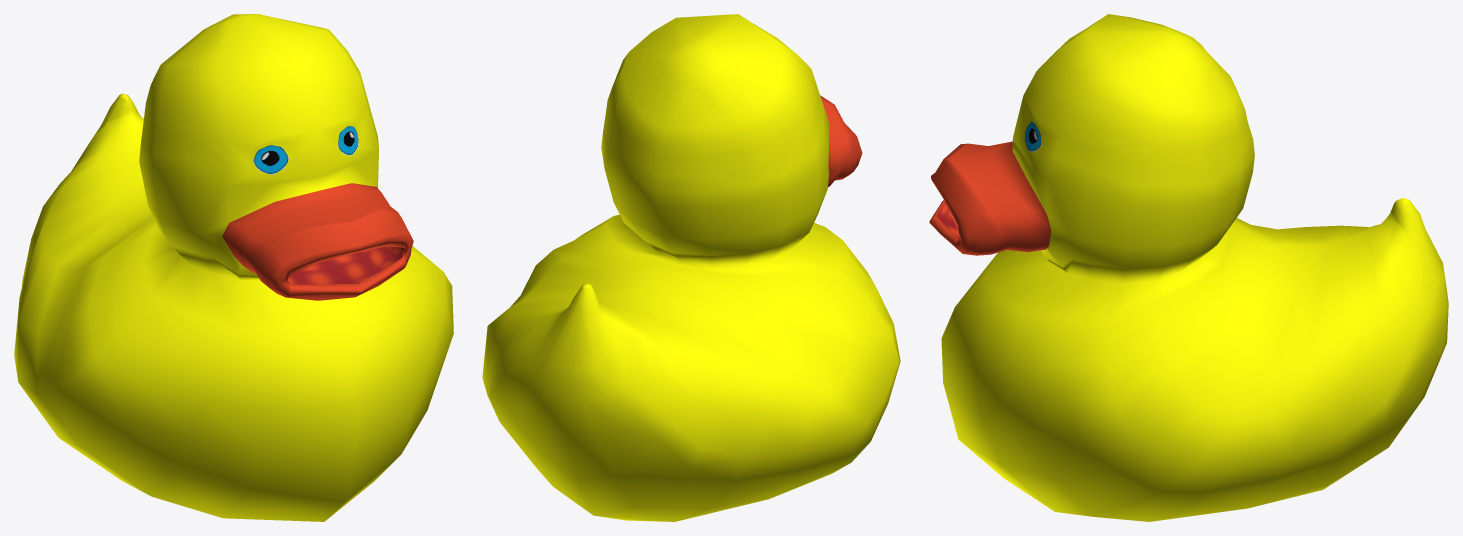
File: Duck_MDL_V1_006.fbx
3 views of the same model, side by side, from view 1: azimuth 30°, elevation 25°; view 2: azimuth 150°, elevation 25°; view 3: azimuth 270°, elevation 25° (orthographic). The views are drawn at different scales.
Parts seen in each view (by area): view 1: side6; view 2: side6; view 3: side6.
Part boxes in pixels (box(x1,y1,x2,y2)): side6: box(14, 14, 453, 521); side6: box(482, 14, 900, 521); side6: box(929, 14, 1448, 521).
Size of the model in its own units: 4.97 by 5.64 by 5.82.
